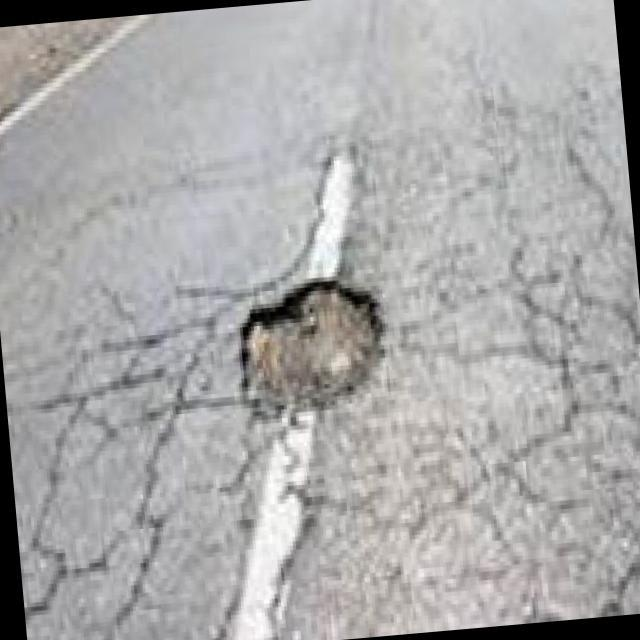Pothole: (232, 264, 394, 433)
